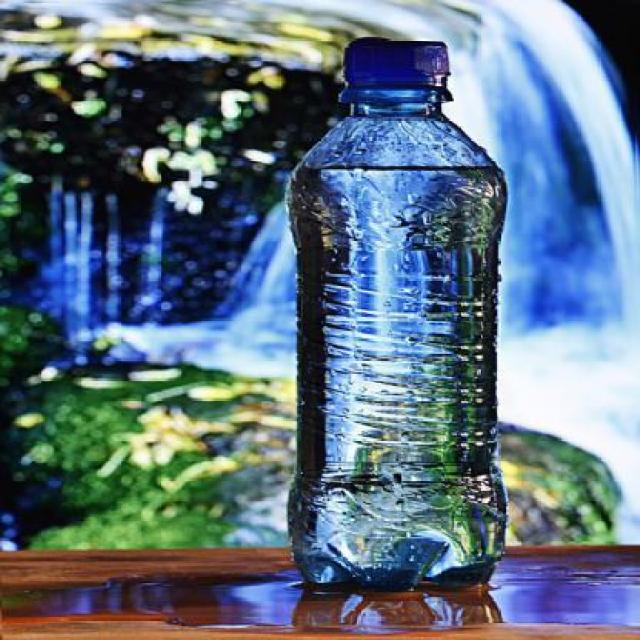bottle: (268, 18, 544, 605)
